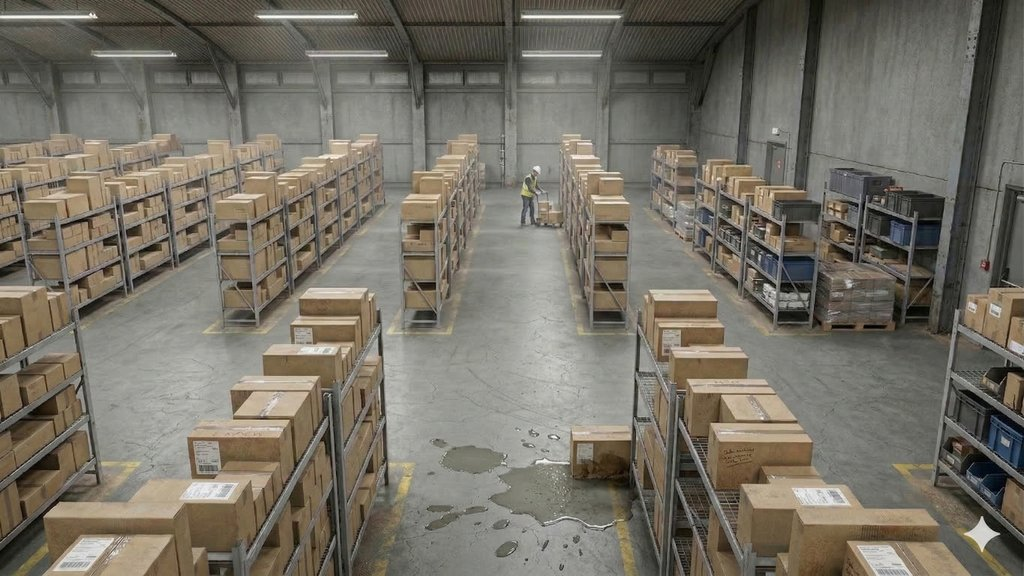pallet: (824, 324, 898, 333)
person: (513, 153, 541, 227)
safety_helmet: (533, 164, 541, 176)
safety_vest: (520, 174, 537, 201)
spill: (393, 424, 641, 554)
